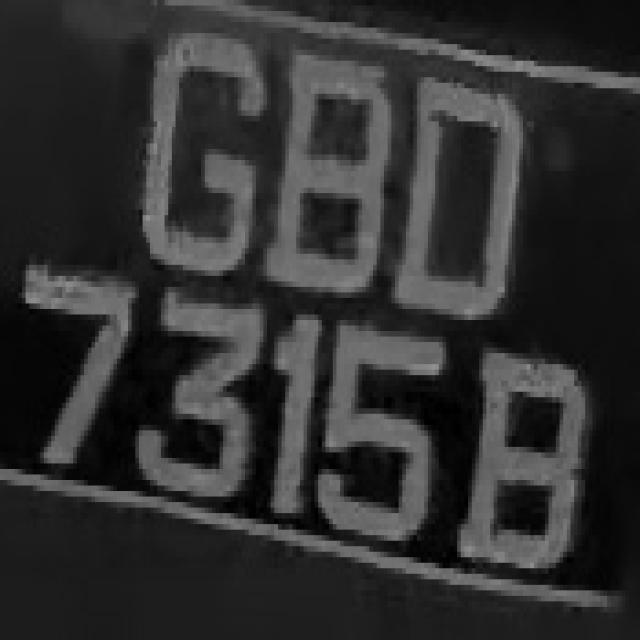1: (267, 282, 314, 546)
3: (150, 264, 260, 508)
5: (329, 303, 428, 552)
7: (11, 237, 139, 486)
B: (274, 11, 399, 303), (461, 337, 596, 590)
D: (414, 55, 530, 342)
G: (139, 16, 267, 292)
